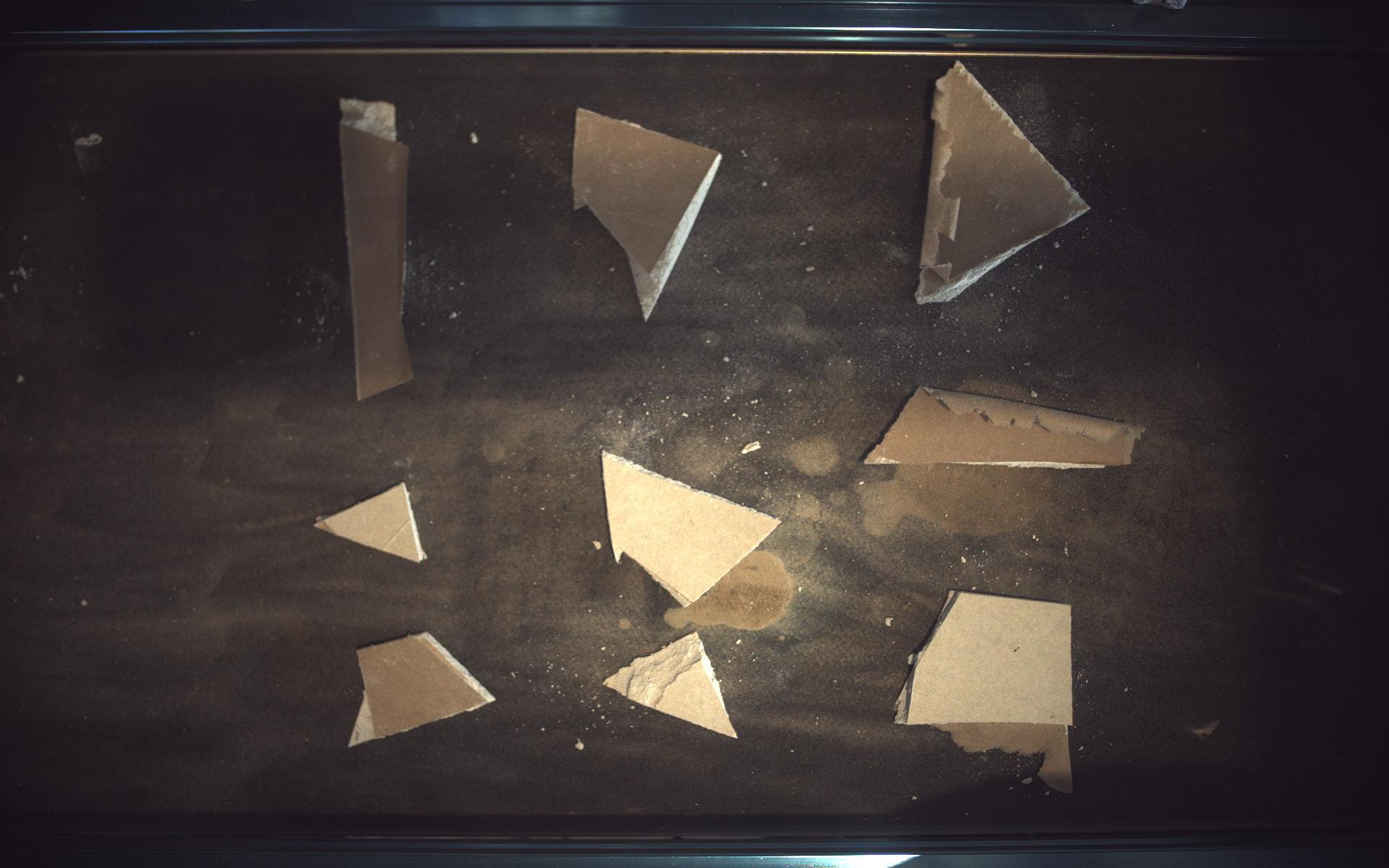gypsum_board: (917, 60, 1092, 304), (897, 592, 1075, 794), (574, 108, 723, 319), (603, 451, 780, 607), (867, 386, 1145, 469), (339, 97, 412, 400), (349, 633, 495, 748), (606, 633, 738, 739), (315, 482, 427, 562)
